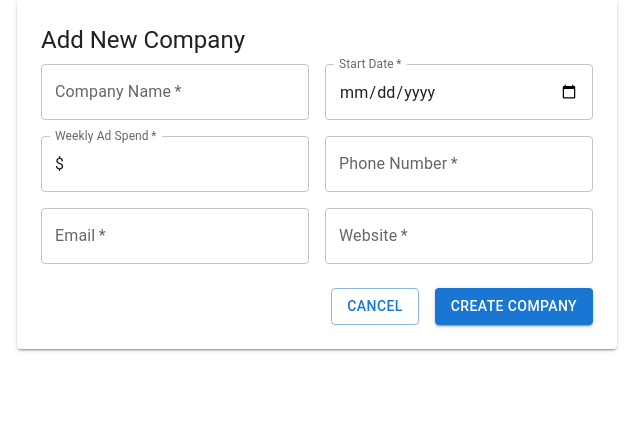
Test case: CompanyForm › Form Interaction › clears field errors when user starts typing
Click the button "Create Company". click: (514, 307)
box: [435,288,593,325]
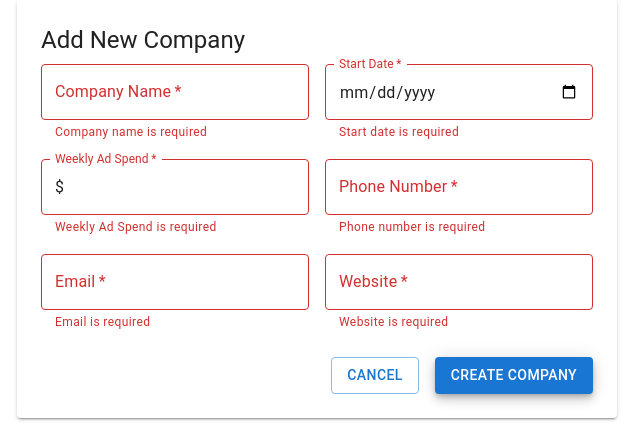
Expected: the text "Company name is required" is shown, [55,125,207,139]
Start typing in the field
Type "T" into the field labelled "Company Name *". click: (175, 92)
box: [41,64,309,120]
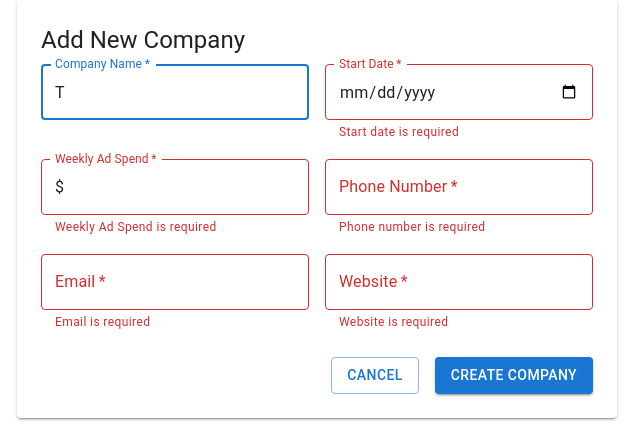
Expected: the text "Company name is required" is gone
